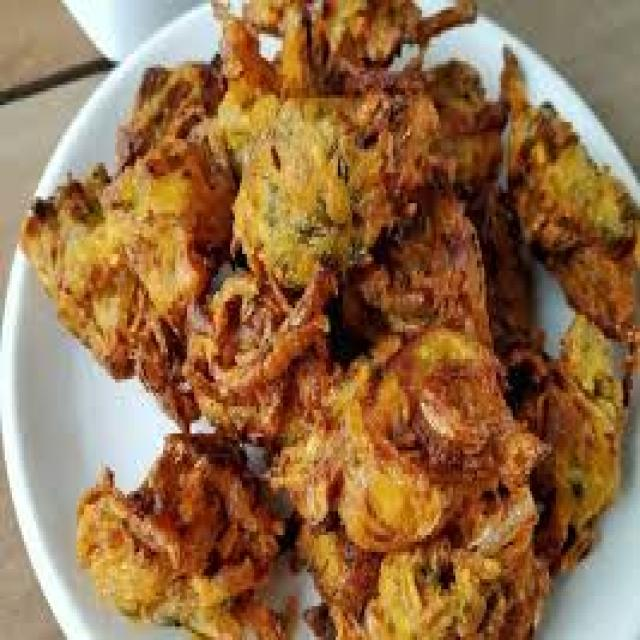BAJI: (19, 1, 638, 637)
